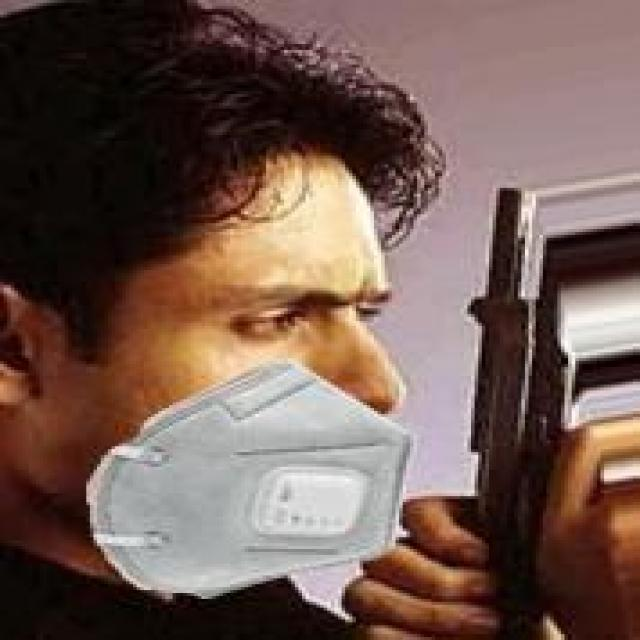mask: (11, 65, 460, 587)
